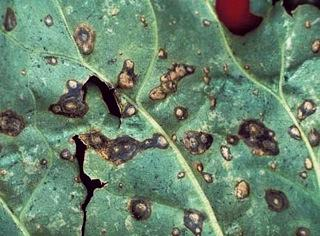Tomato leaf bacterial spot: (4, 3, 319, 236)
